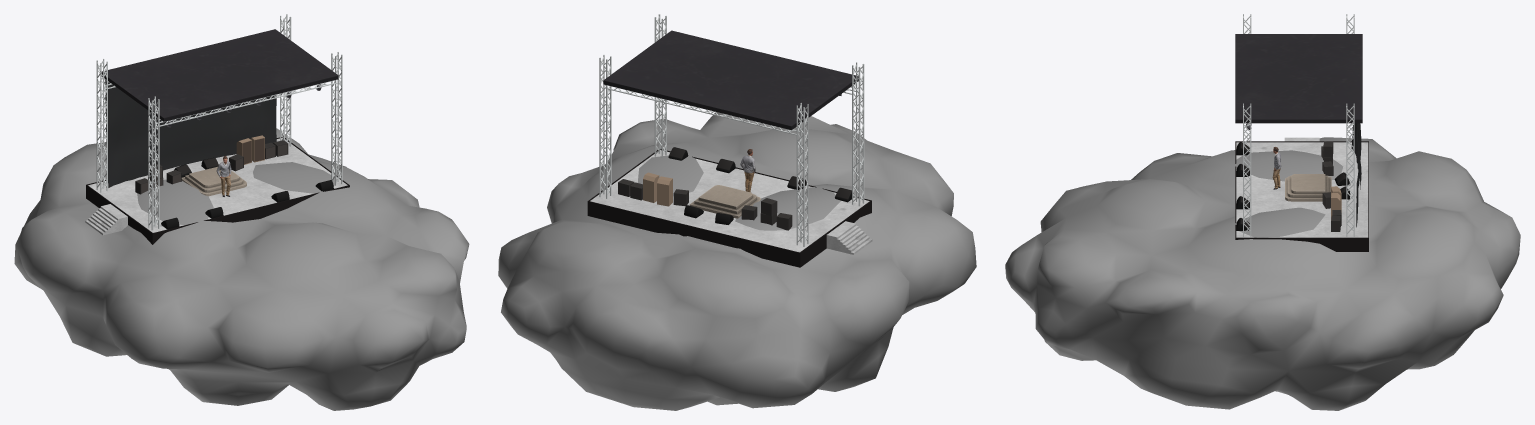
Rendered from weekly-features_scene.glb.
3 renders of one model, left to right at view 1: azimuth 30°, elevation 25°; view 2: azimuth 150°, elevation 25°; view 3: azimuth 270°, elevation 25°, orthographic. The views are drawn at different scales.
Parts seen in each view (by area): view 1: Clouds, concert-stagemainfinal; view 2: Clouds, concert-stagemainfinal; view 3: Clouds, concert-stagemainfinal.
Part boxes in pixels (box(x1,y1,x2,y2)): Clouds: box(14, 128, 469, 410); concert-stagemainfinal: box(85, 14, 349, 244); Clouds: box(498, 112, 976, 410); concert-stagemainfinal: box(587, 14, 872, 267); Clouds: box(1005, 137, 1520, 410); concert-stagemainfinal: box(1235, 14, 1368, 251).
Size of the model in its own units: 2.2 by 1.86 by 2.77.
Materials: 3 (2 with a texture image).
